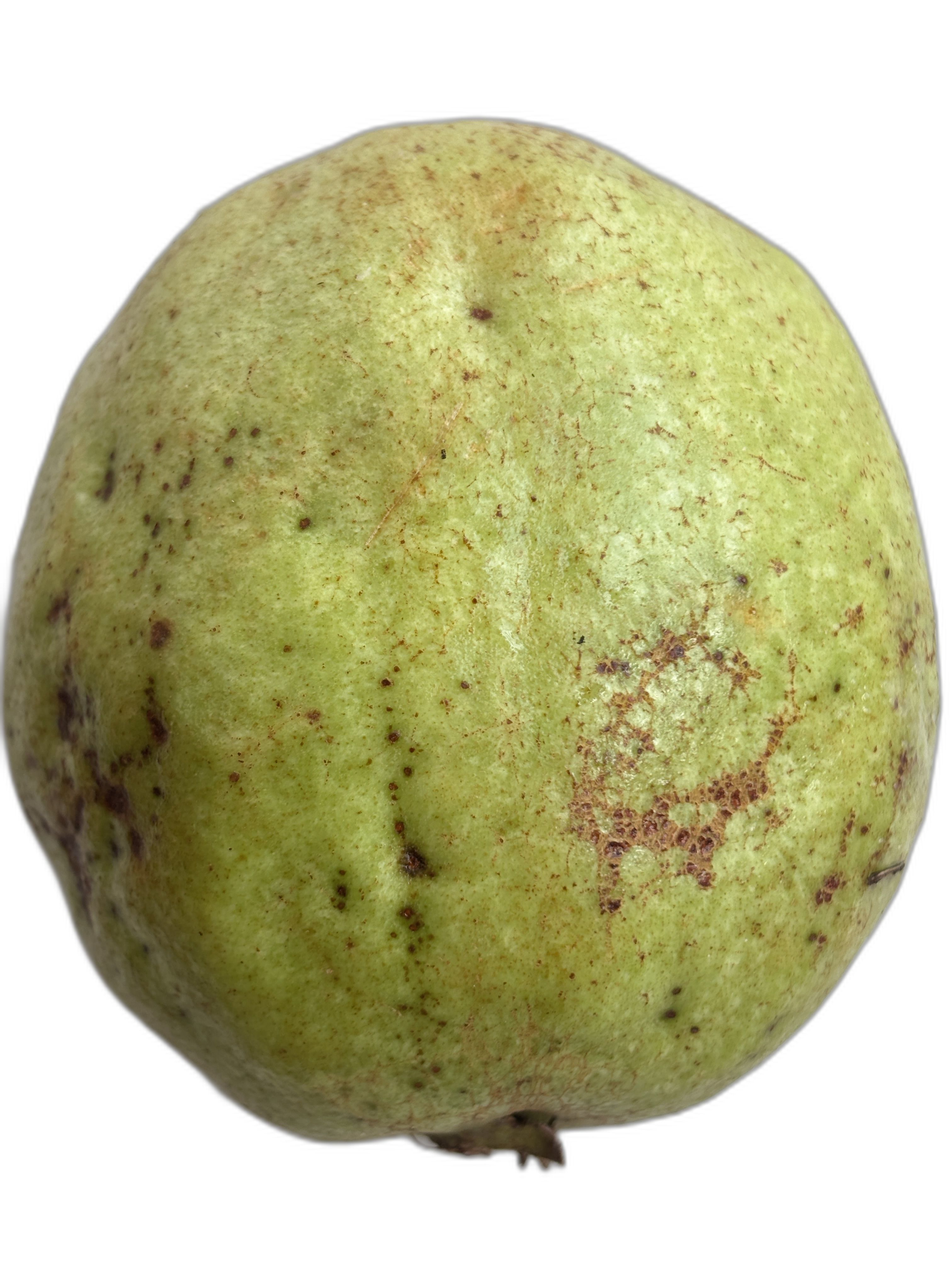guava: (112, 22, 803, 1031)
